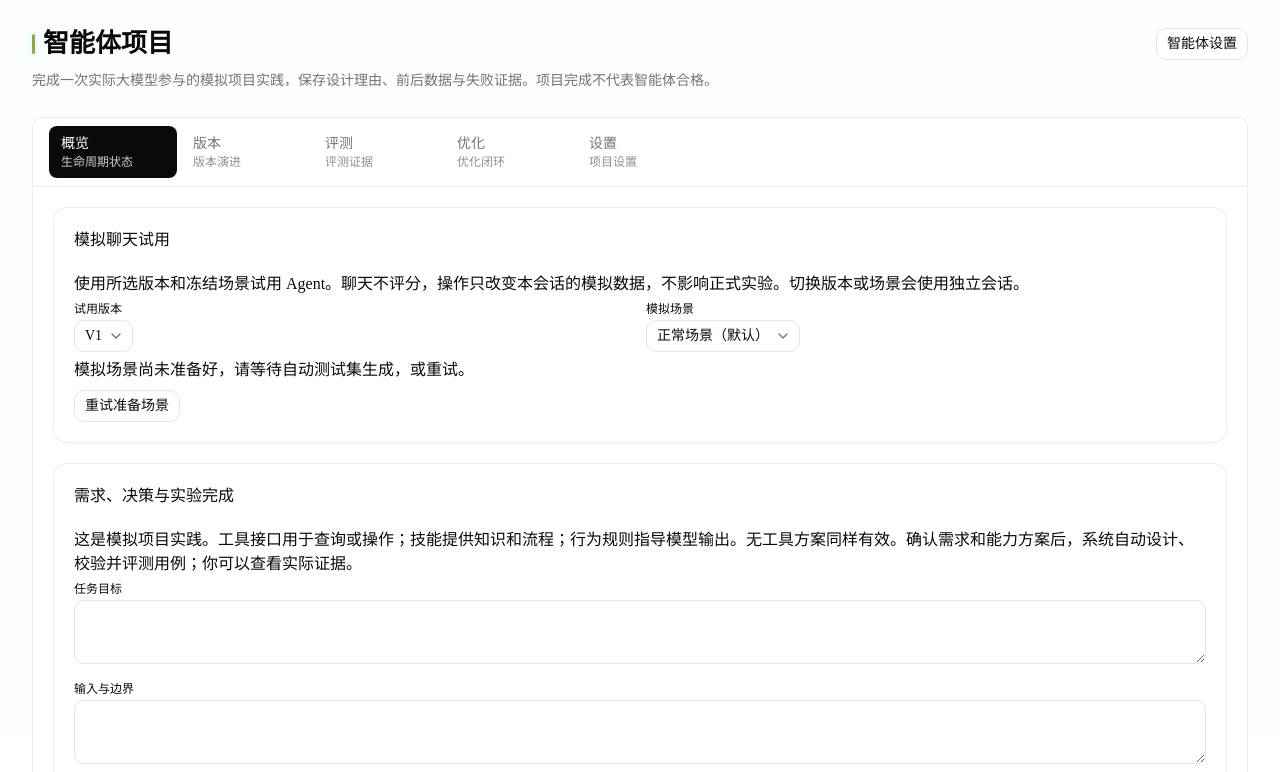
Test: reports generation failure without inserting sample scores or cases
This screenshot has width=1280, height=772.
Click the button "评测 评测证据" at (377, 152), box 313,126 -> 441,178
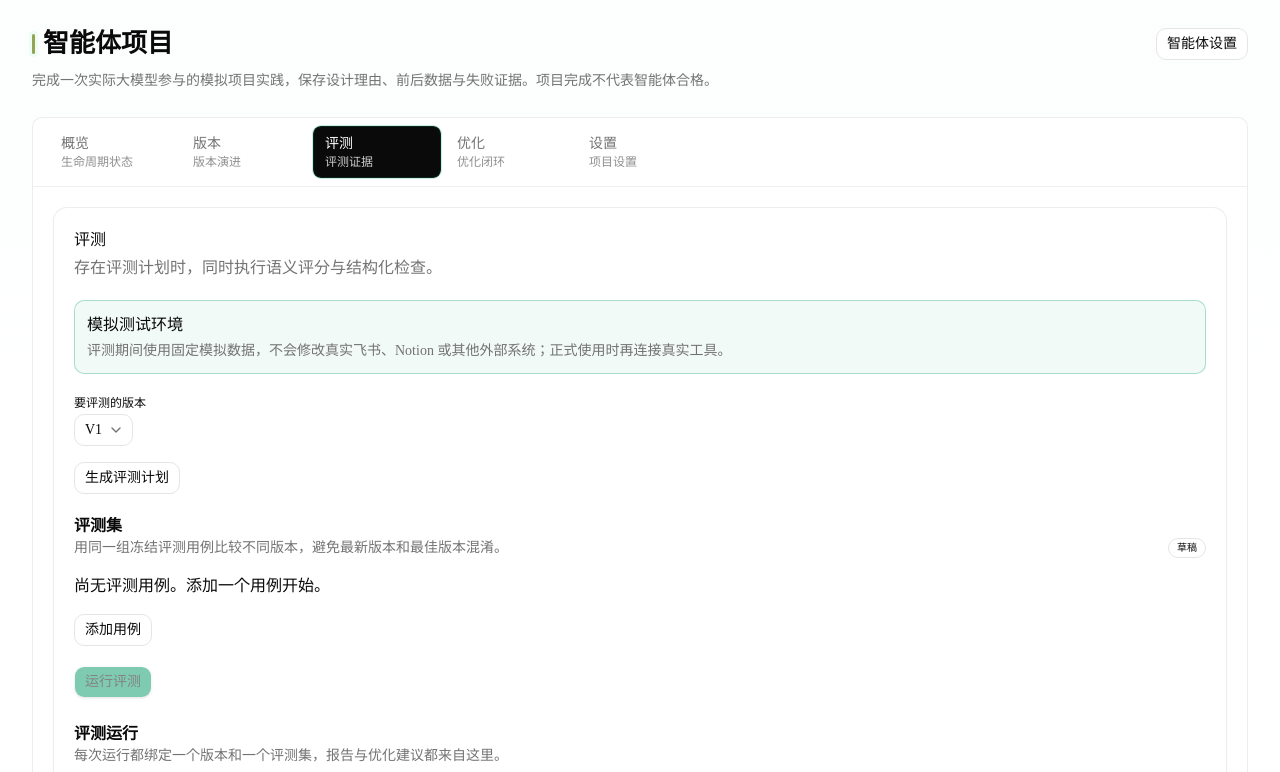
Click the button "生成评测计划" at (127, 478), box 74,462 -> 180,494
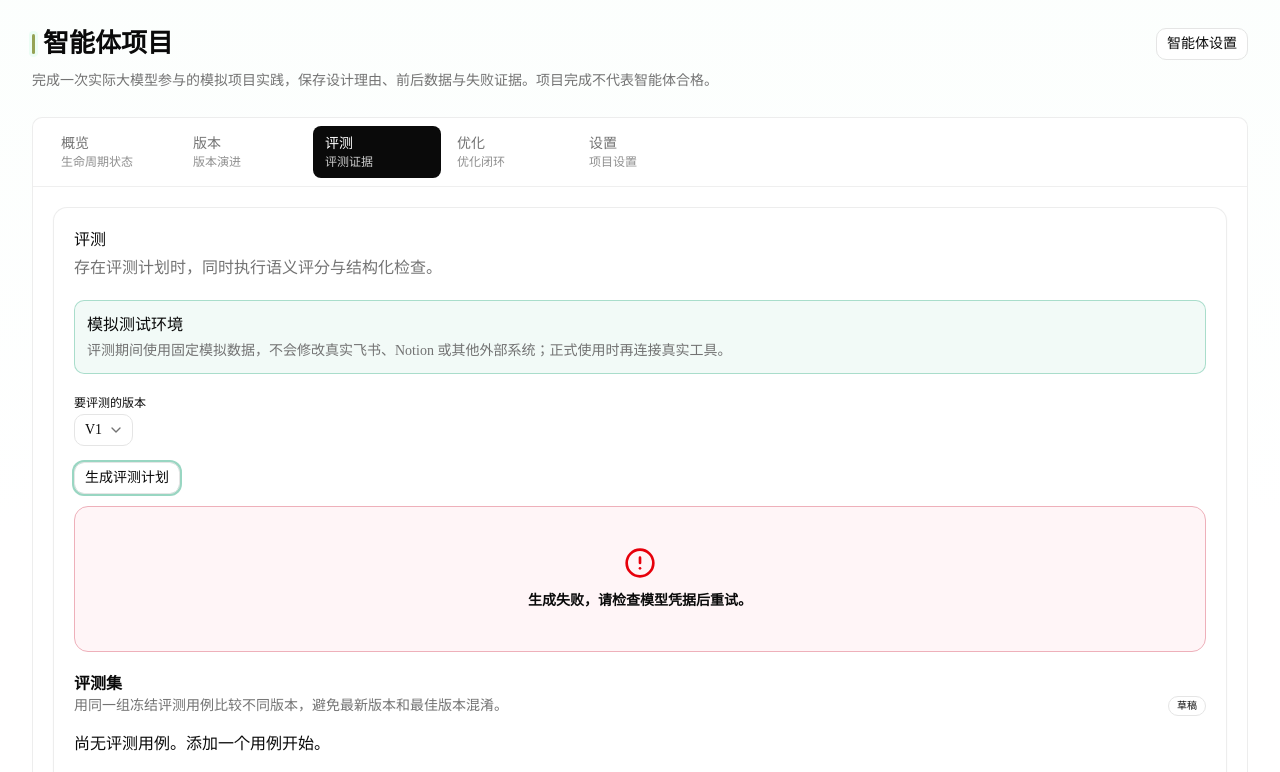
Check: the text "生成失败，请检查模型凭据后重试。" is shown, box 528,590 -> 752,610
